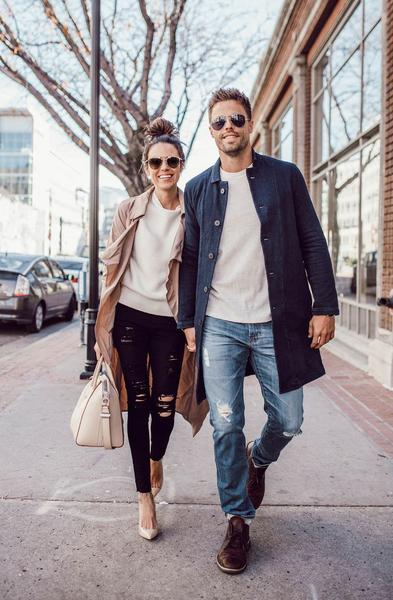jeans: (199, 314, 306, 505), (112, 301, 184, 484)
sunglasses: (206, 114, 249, 129), (145, 157, 180, 171)
